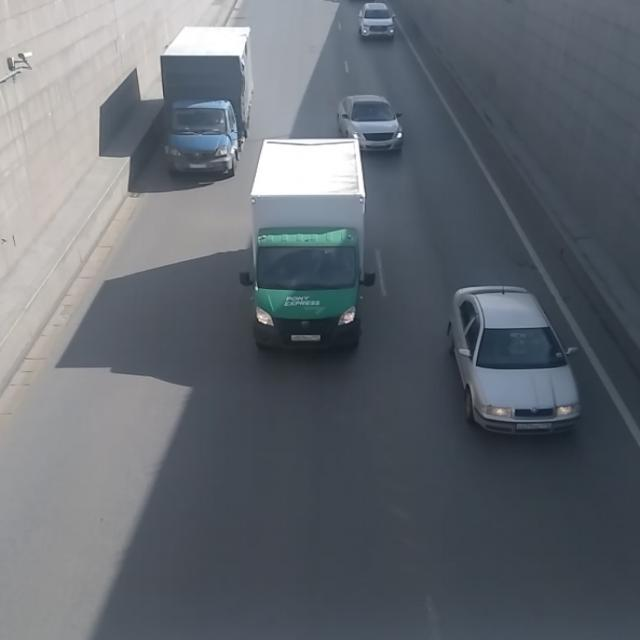car: (444, 284, 584, 436), (335, 94, 406, 154)
truck: (239, 137, 378, 355), (159, 26, 256, 178)
